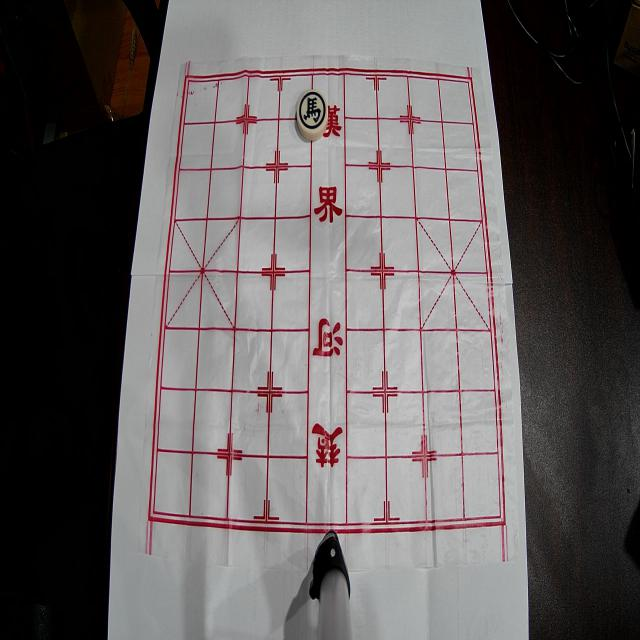black-horse: (297, 90, 328, 140)
